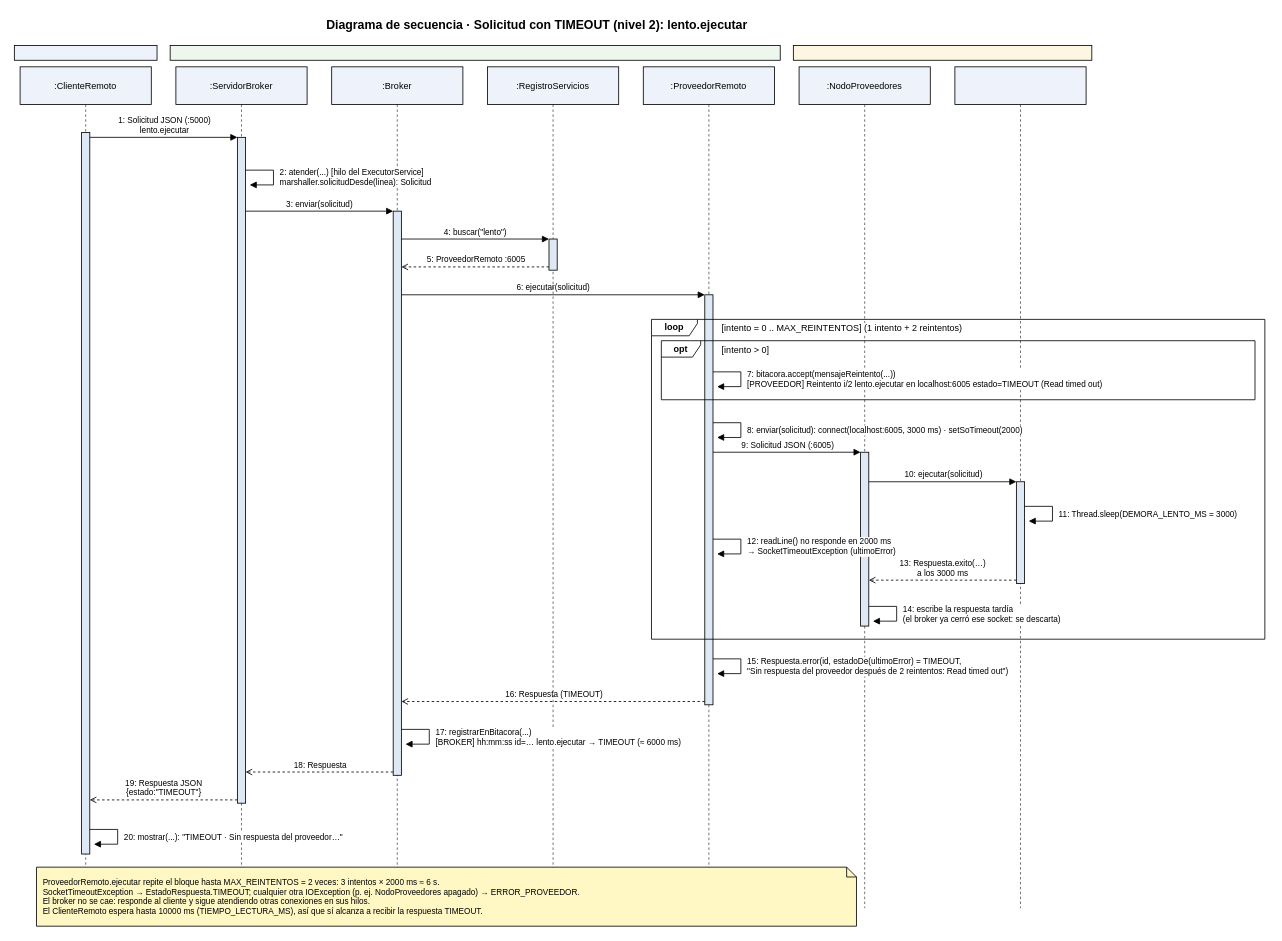
This 1282x941 diagram has some shape labels left out. Each missing label, with the centre of its shape:
:ProveedorLento: [1020,85]
JVM 1 · cliente: [85,52]
JVM 2 · broker (puerto 5000): [474,52]
JVM 3 · NodoProveedores: [942,52]
